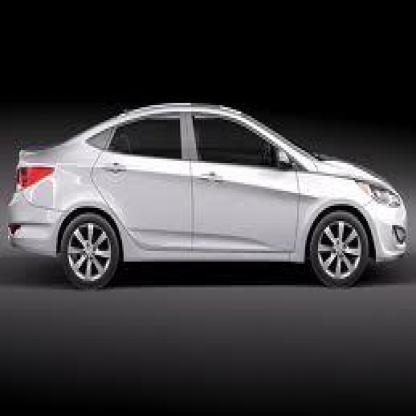car: (8, 99, 410, 296)
